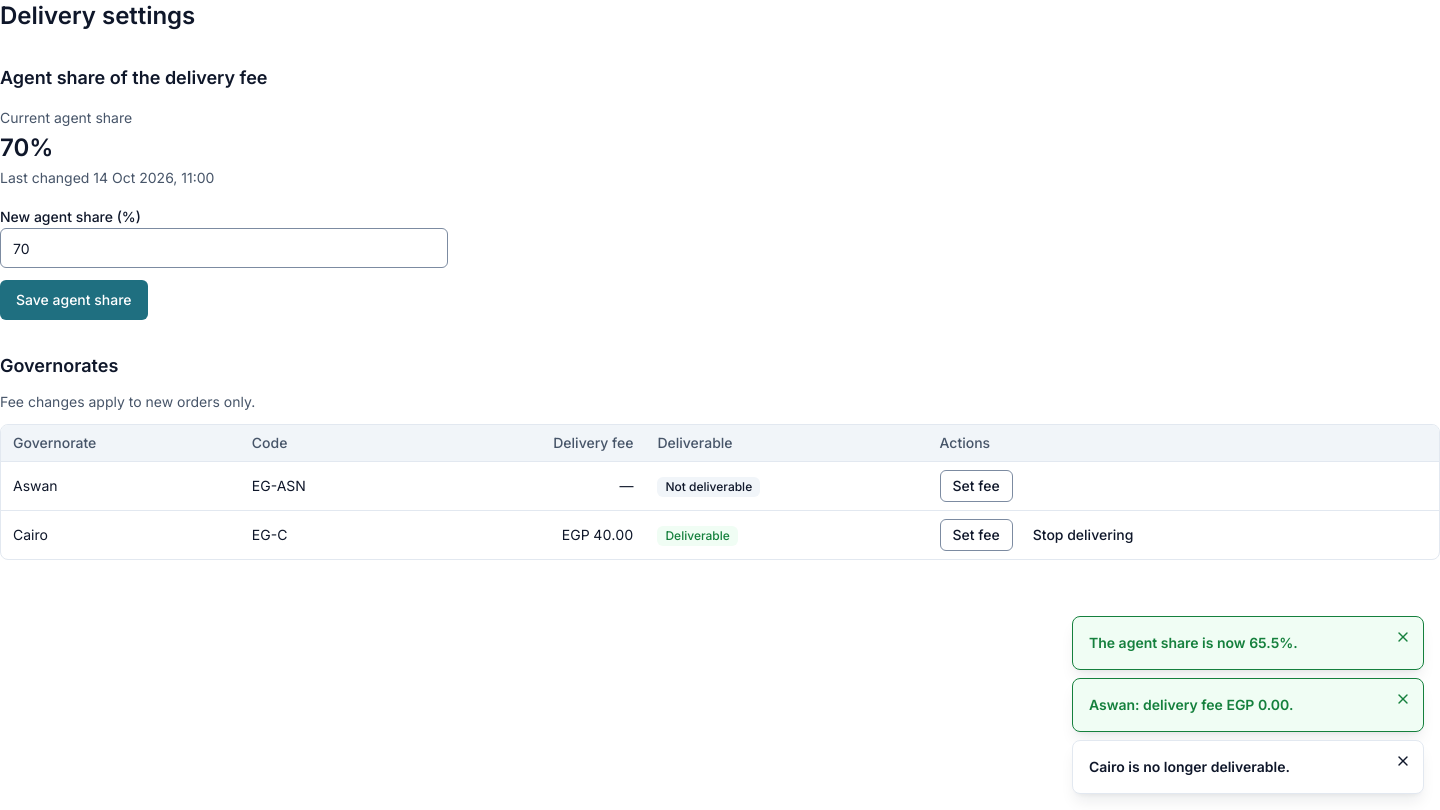
delivery settings (spec 03 AD-08) › GOVERNORATE_NOT_FOUND closes, reloads the list and explains
Click the button with aria-label "Stop delivering to Cairo" at (1083, 535), box [1021,519,1145,551]
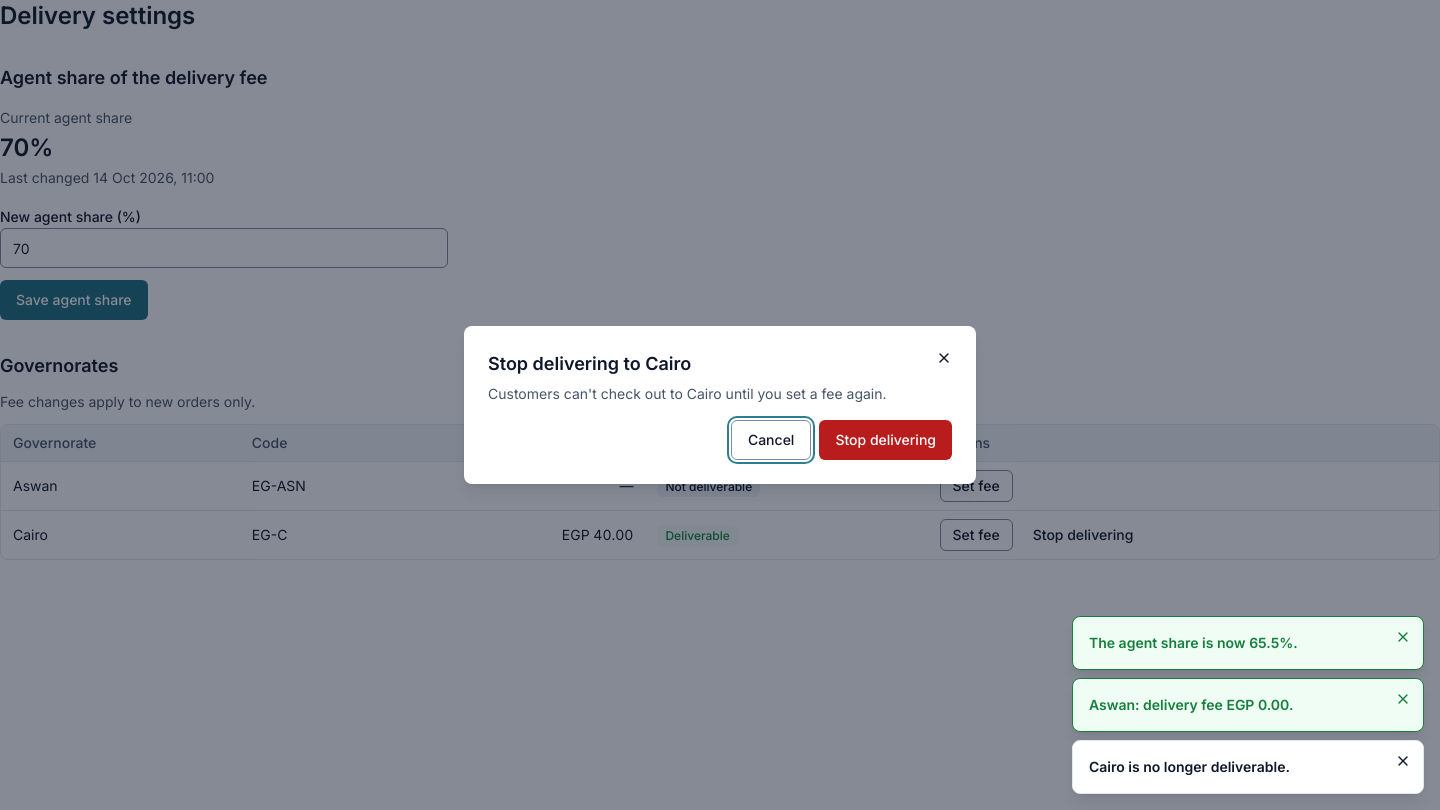
Click the button "Stop delivering" at (886, 440), box [819,420,952,460]
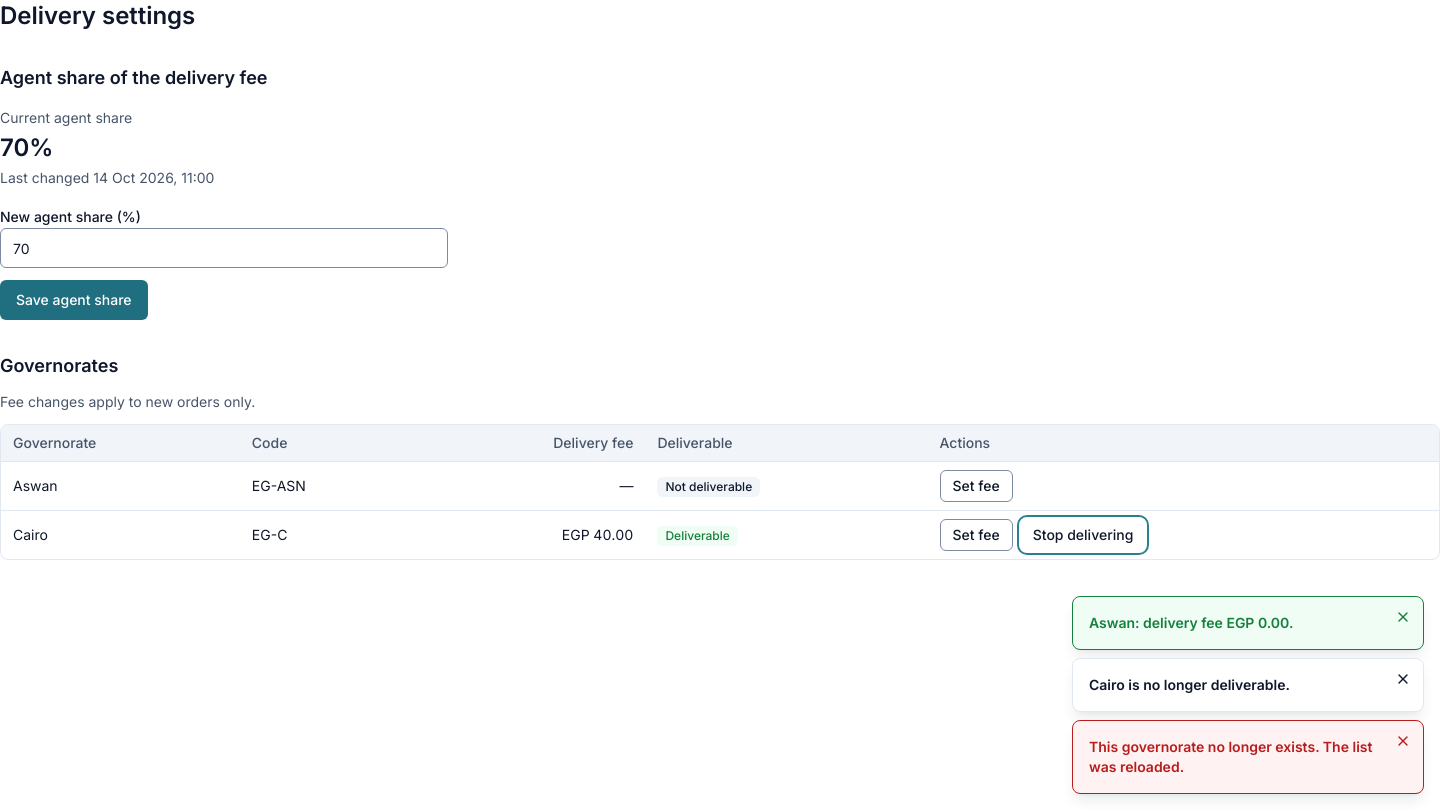
Check: the text "This governorate no longer exists. The list was reloaded." is shown, box [1089,737,1383,777]
Check: the dialog is gone
